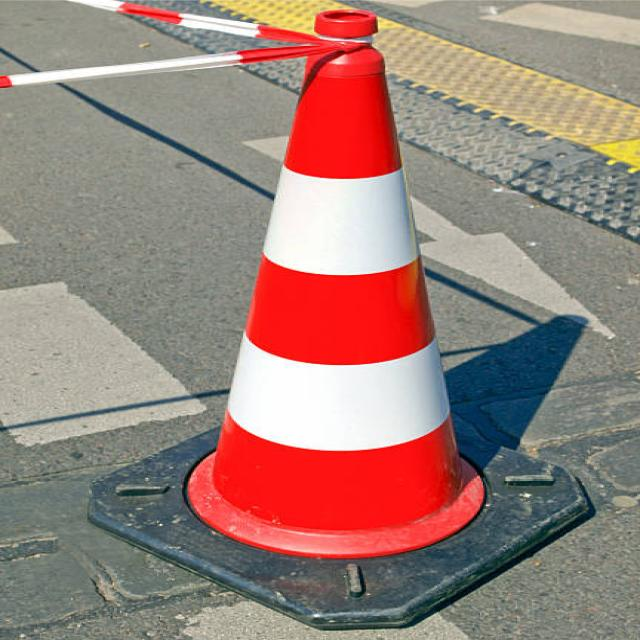Traffic Cone: (69, 0, 640, 553)
